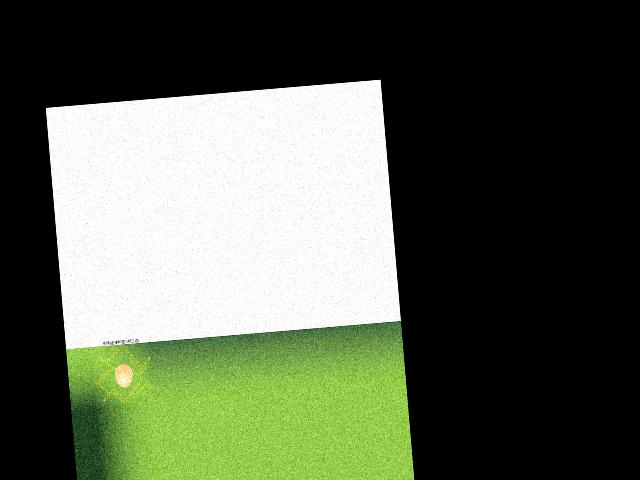egg: (113, 363, 133, 388)
